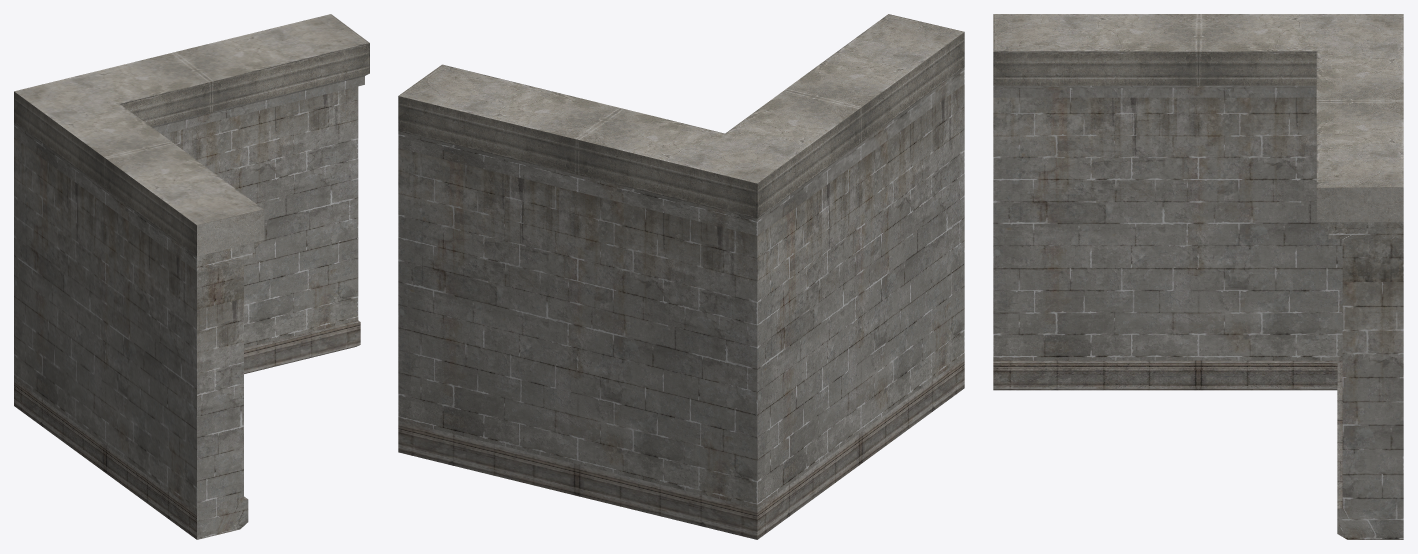
The model's file is bg_lut_lucastle_librarywall01b_sm_ysi.FBX.
3 views of the same model, side by side, from view 1: azimuth 30°, elevation 25°; view 2: azimuth 150°, elevation 25°; view 3: azimuth 270°, elevation 25° (orthographic). The views are drawn at different scales.
Visible parts, largest first — view 1: bg_lut_lucastle_librarywall01b_sm_ysi; view 2: bg_lut_lucastle_librarywall01b_sm_ysi; view 3: bg_lut_lucastle_librarywall01b_sm_ysi.
Boxes of the visible parts, box(x1,y1,x2,y2) form: bg_lut_lucastle_librarywall01b_sm_ysi: box(14, 14, 369, 539); bg_lut_lucastle_librarywall01b_sm_ysi: box(398, 14, 964, 539); bg_lut_lucastle_librarywall01b_sm_ysi: box(993, 14, 1403, 539).
Bounding box in the file's own units: 384 × 364 × 384.
